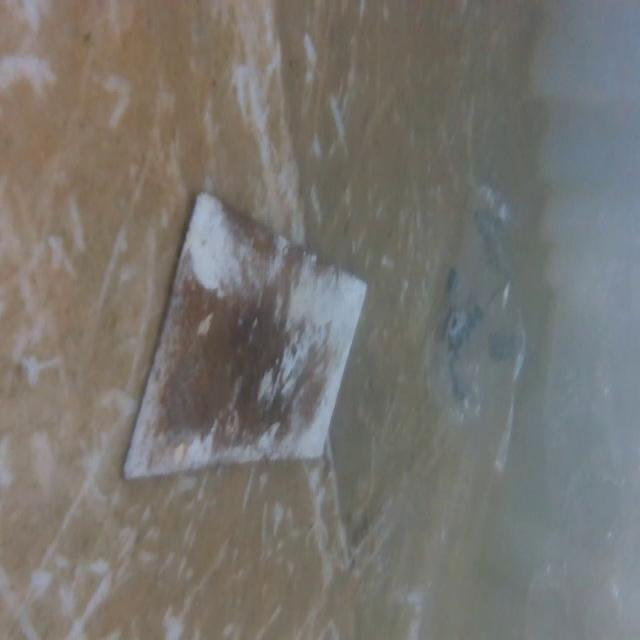plastic bags: (425, 184, 536, 480)
